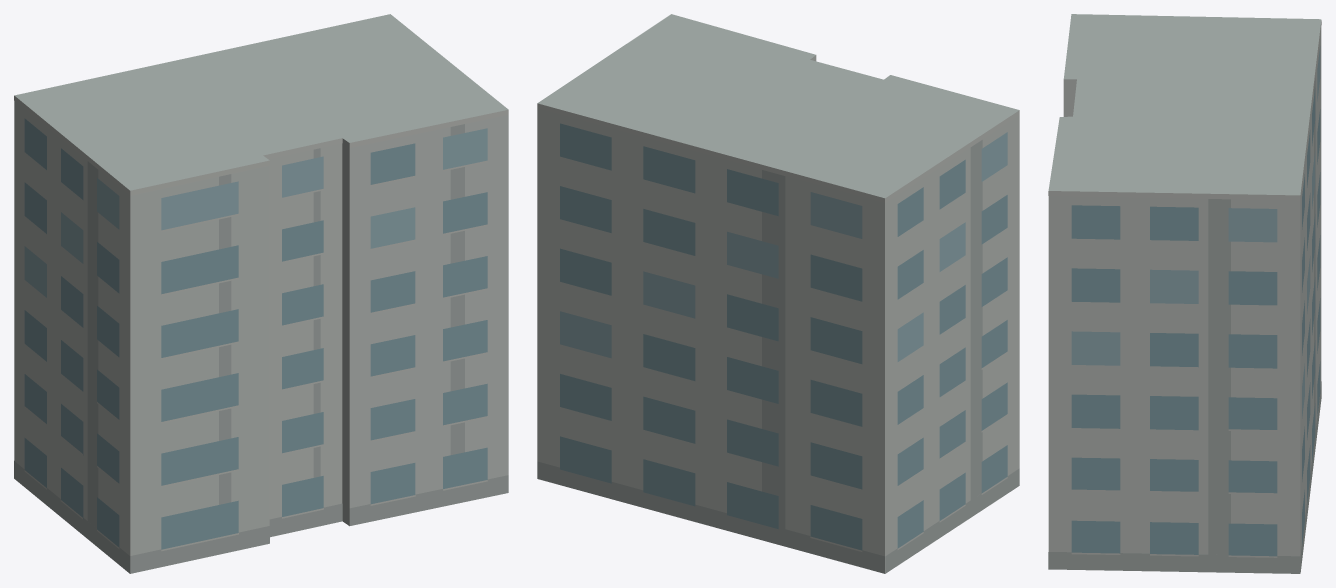
Rendered from survey-upis-32831716.glb.
3 views of the same model, side by side, from view 1: azimuth 30°, elevation 25°; view 2: azimuth 150°, elevation 25°; view 3: azimuth 270°, elevation 25° (orthographic). The views are drawn at different scales.
Parts seen in each view (by area): view 1: survey-upis-32831716.tmp; view 2: survey-upis-32831716.tmp; view 3: survey-upis-32831716.tmp.
Boxes of the visible parts, left/top/right/bottom form: survey-upis-32831716.tmp: left=14, top=14, right=508, bottom=573; survey-upis-32831716.tmp: left=537, top=14, right=1019, bottom=573; survey-upis-32831716.tmp: left=1048, top=14, right=1321, bottom=573.
Size of the model in its own units: 18.41 by 17.9 by 11.71.
